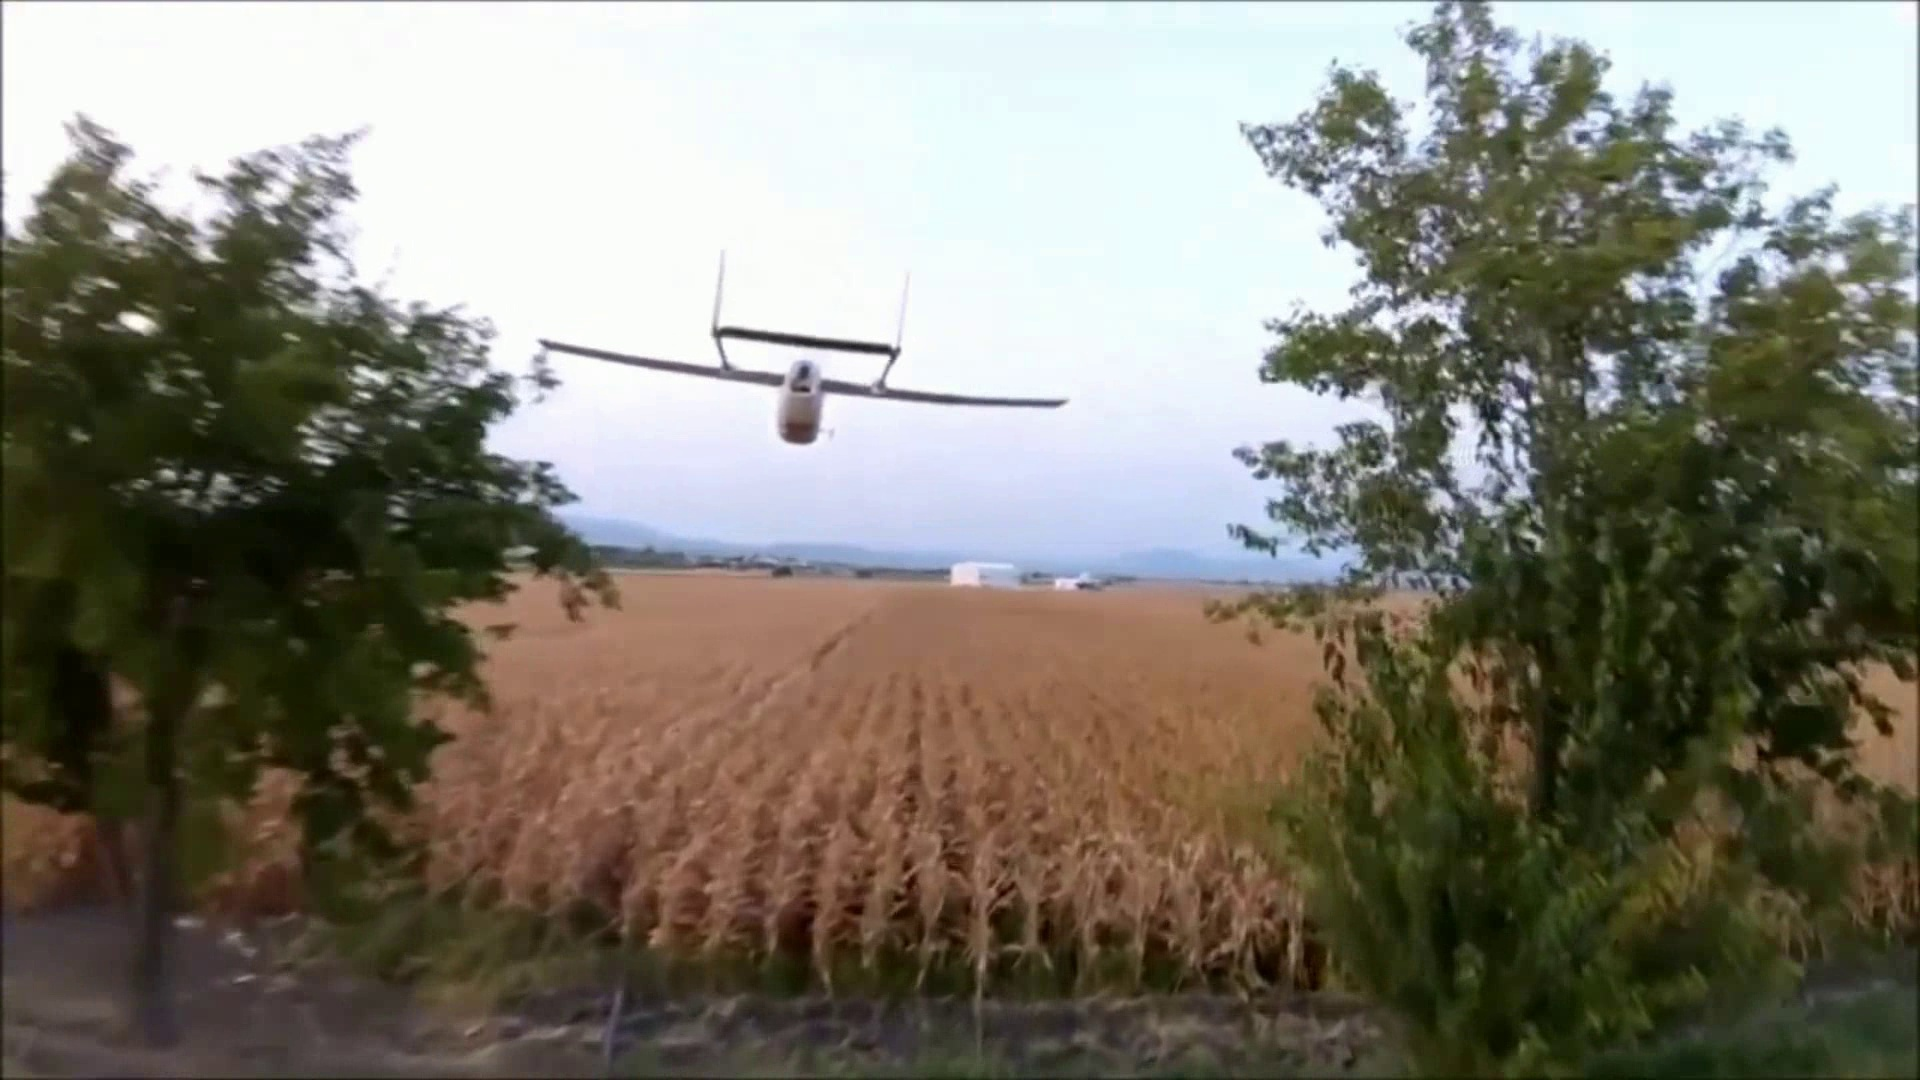airplane: (535, 241, 1069, 442)
